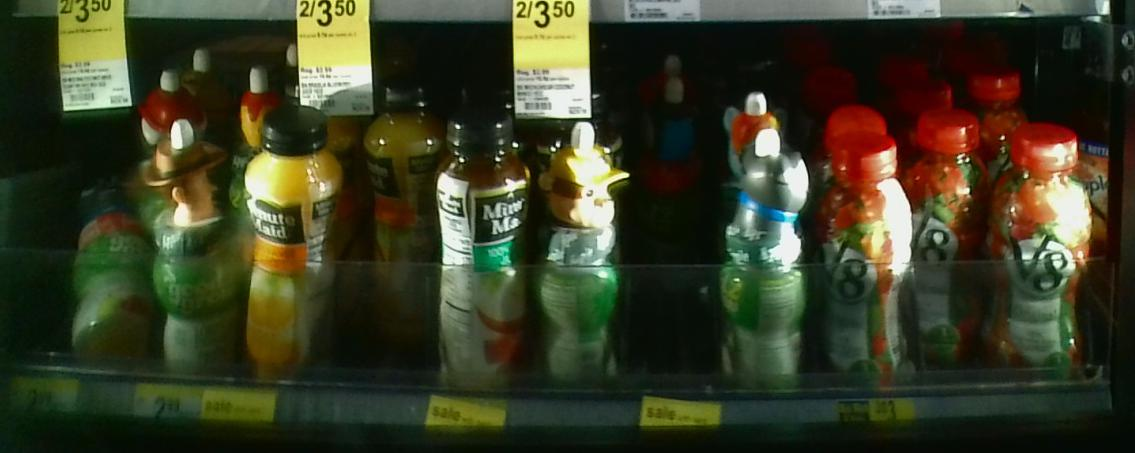bottle: (997, 108, 1098, 391), (437, 92, 530, 399), (533, 106, 622, 402), (816, 128, 910, 395), (719, 122, 810, 395), (140, 121, 227, 393), (256, 106, 335, 392), (910, 112, 995, 377), (355, 63, 436, 339), (66, 162, 159, 385)
